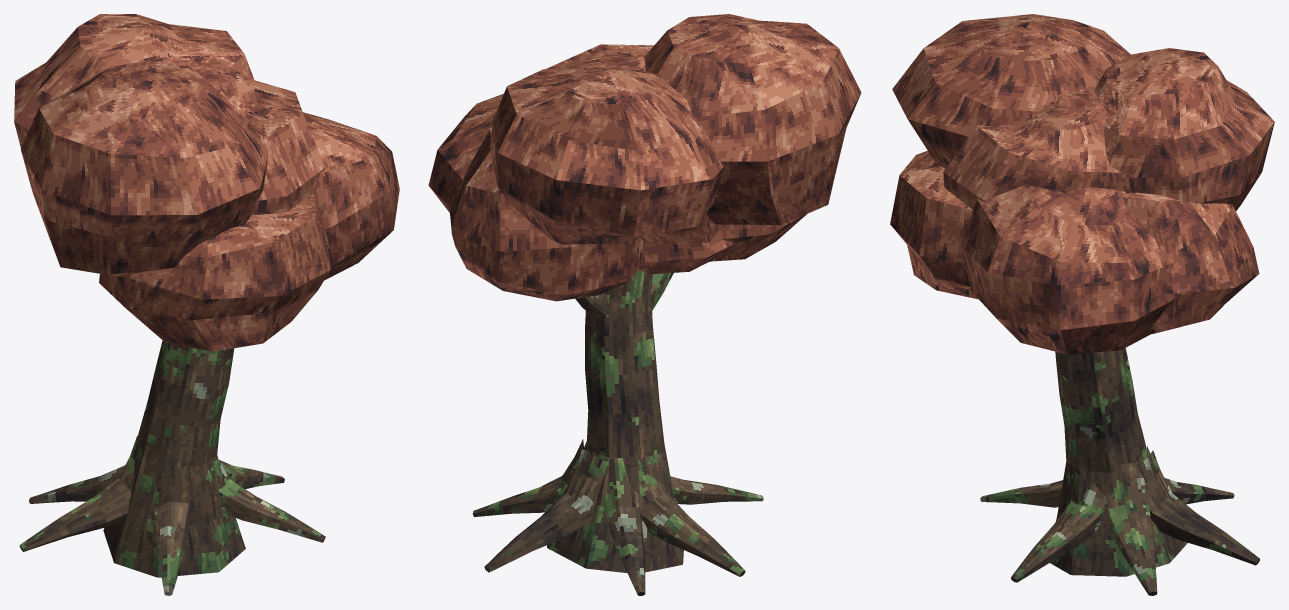
Rendered from maple.glb.
3 views of the same model, side by side, from view 1: azimuth 30°, elevation 25°; view 2: azimuth 150°, elevation 25°; view 3: azimuth 270°, elevation 25° (orthographic). The views are drawn at different scales.
Visible parts, largest first — view 1: crown_12, crown_17, trunk_1, crown_32, crown_22, crown_36, root_7, root_5, root_6, root_2, root_4; view 2: crown_32, crown_12, trunk_1, crown_27, root_3, root_7, root_2, crown_22, crown_36, crown_38, root_4, crown_17 (+2 smaller); view 3: crown_22, crown_32, crown_12, trunk_1, crown_36, crown_27, crown_17, root_4, root_3, root_5, root_6, root_2.
Part boxes in pixels (<box>): crown_12: <box>21,60,268,276</box>; crown_17: <box>99,194,330,351</box>; trunk_1: <box>103,340,245,577</box>; crown_32: <box>14,14,254,148</box>; crown_22: <box>303,112,399,280</box>; crown_36: <box>195,61,324,215</box>; root_7: <box>19,436,137,551</box>; root_5: <box>218,459,325,542</box>; root_6: <box>154,501,190,595</box>; root_2: <box>29,465,125,503</box>; root_4: <box>219,460,284,488</box>; crown_32: <box>490,68,724,244</box>; crown_12: <box>644,14,861,225</box>; trunk_1: <box>547,270,683,572</box>; crown_27: <box>449,128,644,301</box>; root_3: <box>484,449,608,572</box>; root_7: <box>623,456,745,576</box>; root_2: <box>603,458,645,595</box>; crown_22: <box>428,93,503,212</box>; crown_36: <box>546,44,718,244</box>; crown_38: <box>638,232,735,274</box>; root_4: <box>472,439,584,516</box>; crown_17: <box>709,214,806,261</box>; crown_22: <box>961,186,1176,354</box>; crown_32: <box>1094,48,1274,210</box>; crown_12: <box>892,14,1130,168</box>; trunk_1: <box>1050,348,1187,576</box>; crown_36: <box>943,89,1123,210</box>; crown_27: <box>1122,192,1259,333</box>; crown_17: <box>890,151,978,299</box>; root_4: <box>1105,462,1157,595</box>; root_3: <box>1135,450,1259,565</box>; root_5: <box>1011,482,1106,582</box>; root_6: <box>980,480,1062,507</box>; root_2: <box>1147,446,1234,504</box>.
Bounding box in the file's own units: 49.87 × 66.17 × 46.15.
1 material, 1 textured.
